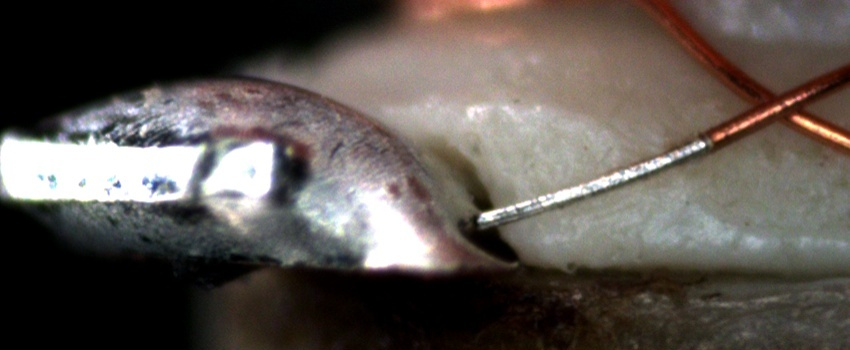CL: (727, 69, 830, 136)
TS: (477, 134, 713, 228)
